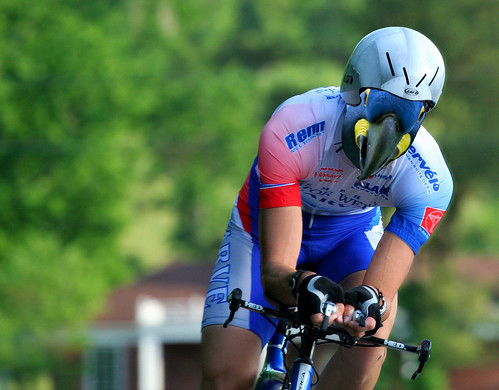helmet: (336, 20, 449, 105)
